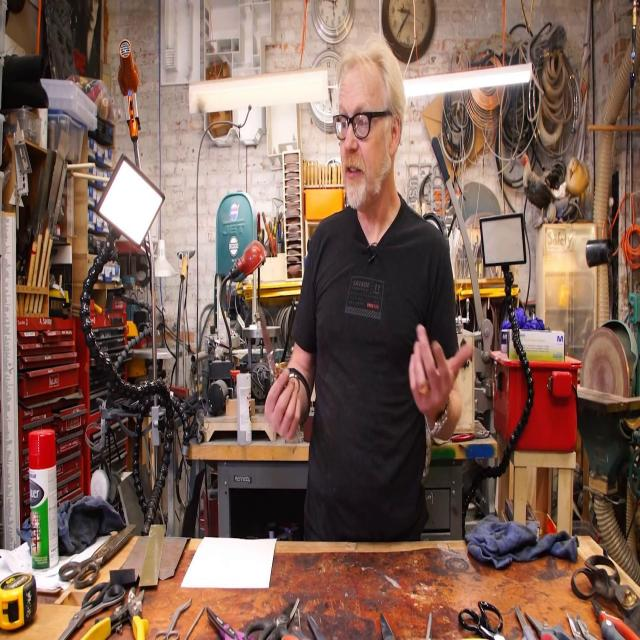scissor: (571, 555, 640, 640), (59, 524, 135, 590), (64, 582, 125, 640), (244, 598, 300, 640), (458, 598, 505, 640), (156, 598, 192, 640), (526, 610, 572, 640), (205, 607, 246, 640), (281, 606, 309, 640), (516, 604, 534, 640)
